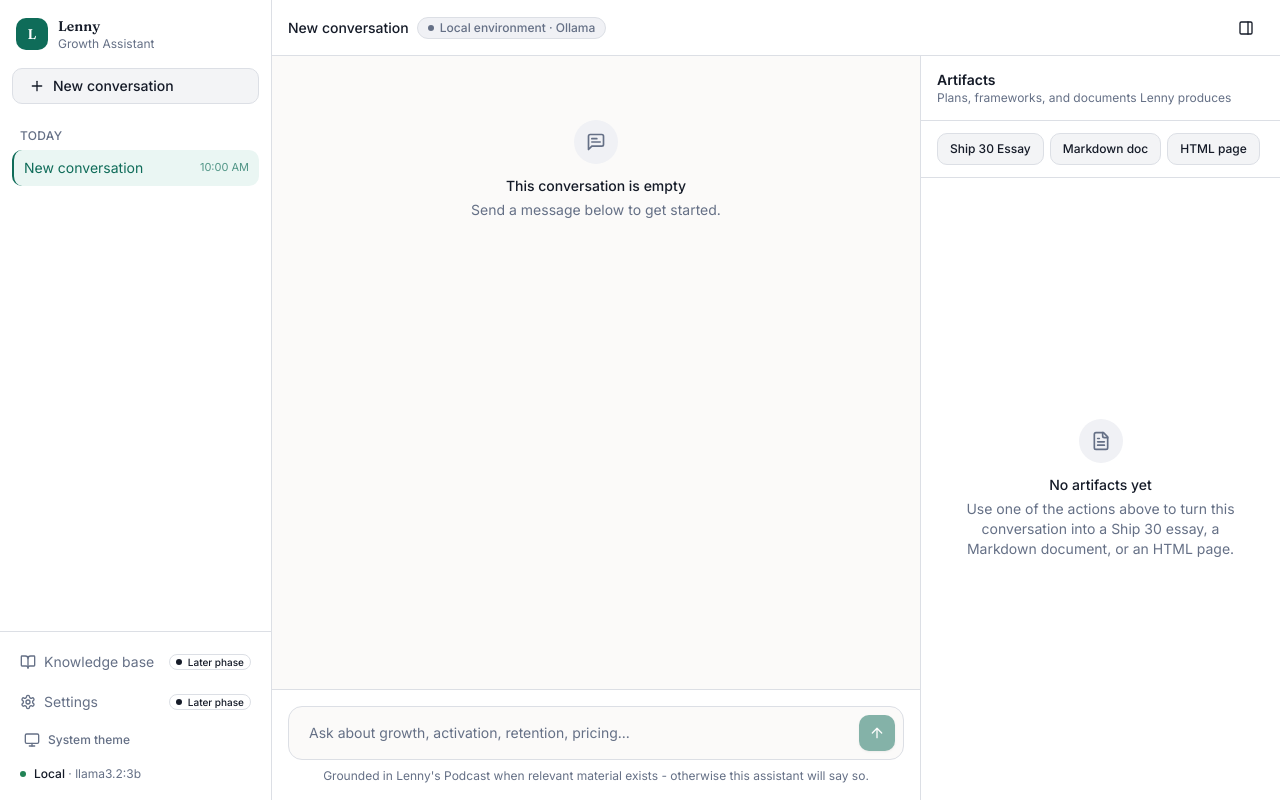
composer and message flow › shows an inline error and restores the draft when the send request itself fails
In the text box named "message lenny growth assistant": coordinates (574, 733) left=297, top=715, right=851, bottom=751, type "hello there"
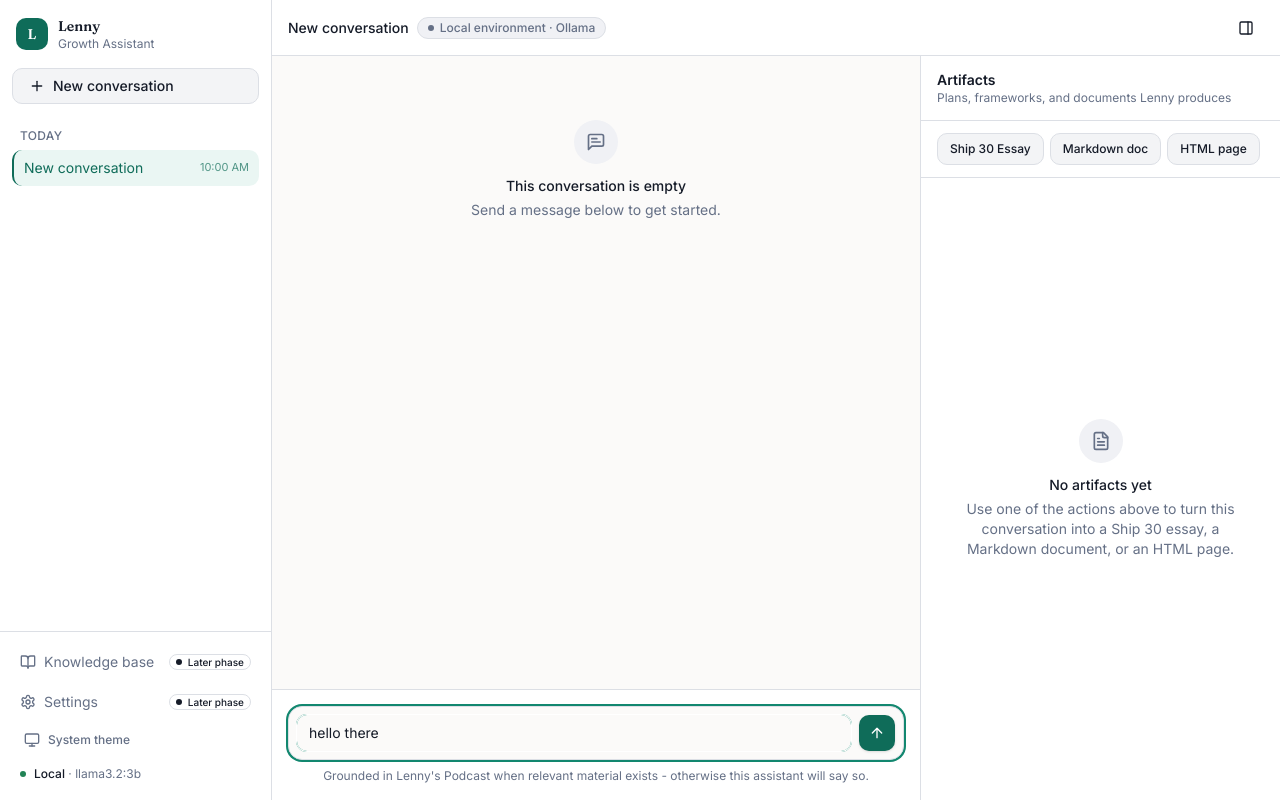
Click the button named "send message": coordinates (877, 733) left=859, top=715, right=895, bottom=751
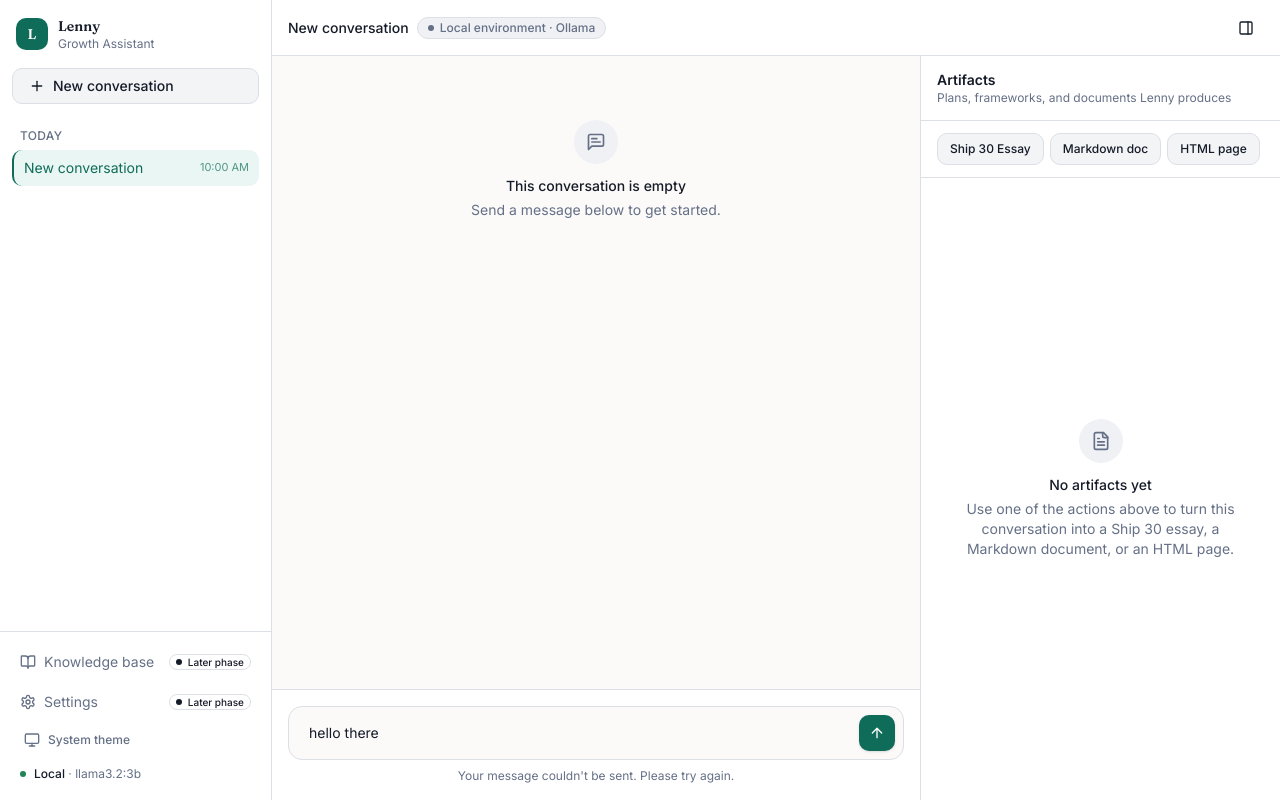
Check: the message shows "couldn't be sent", box left=458, top=768, right=734, bottom=783
